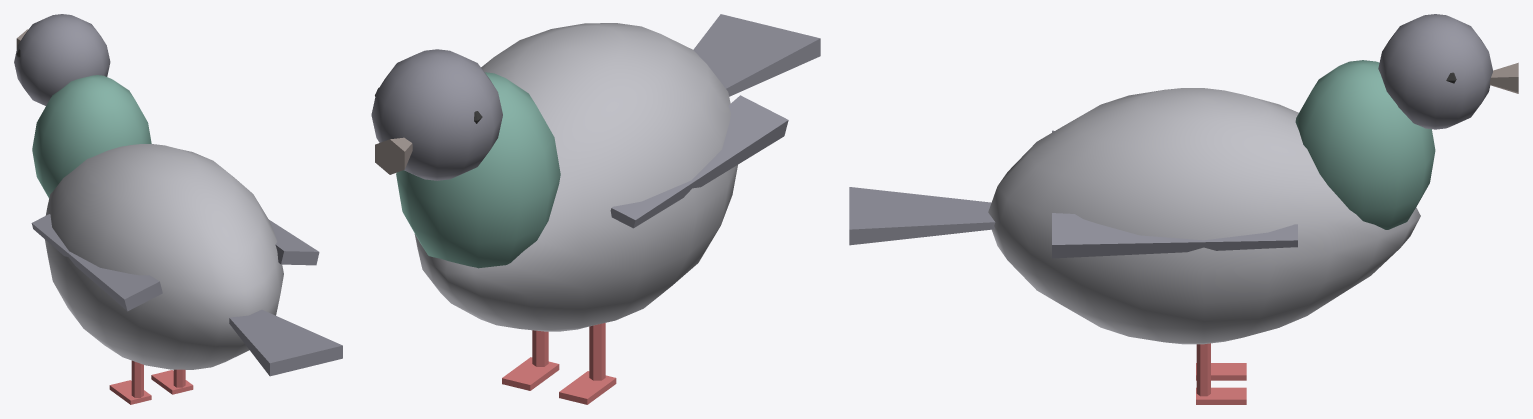
File: pigeon.glb
3 views of the same model, side by side, from view 1: azimuth 30°, elevation 25°; view 2: azimuth 150°, elevation 25°; view 3: azimuth 270°, elevation 25° (orthographic). The views are drawn at different scales.
Visible parts, largest first — view 1: pigeon; view 2: pigeon; view 3: pigeon.
Boxes of the visible parts, <box> form: pigeon: <box>14,14,342,404</box>; pigeon: <box>371,14,820,404</box>; pigeon: <box>849,14,1518,404</box>.
Bounding box in the file's own units: 0.1869 × 0.28 × 0.4625.
